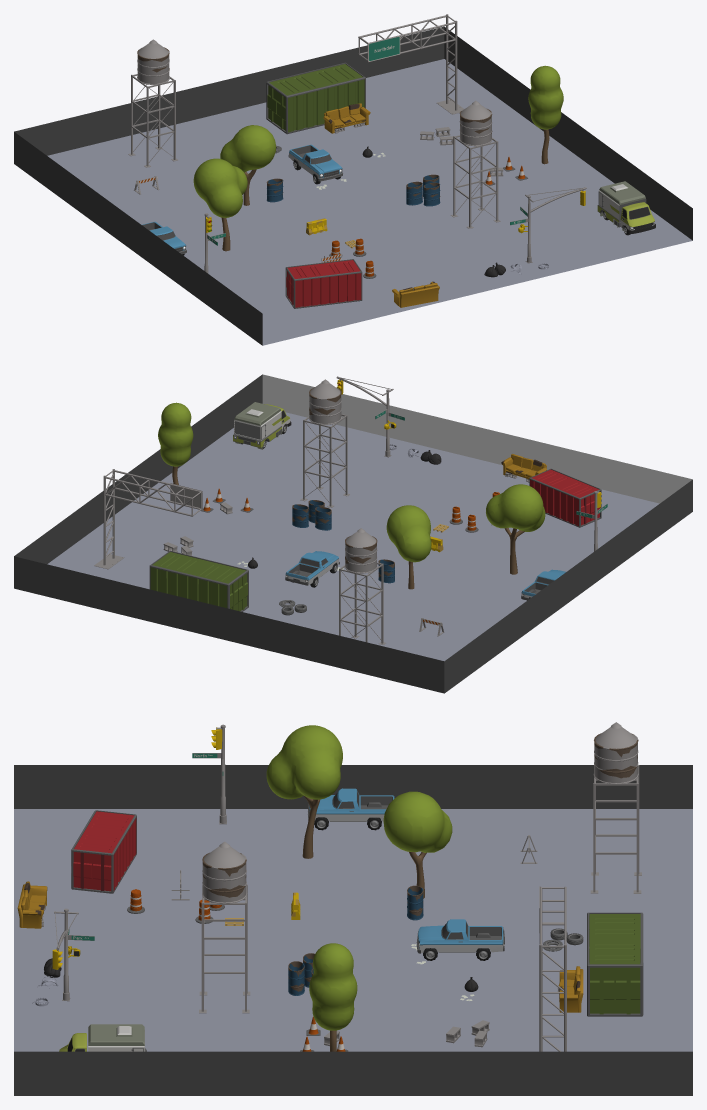
The model's file is tree2.glb.
The picture shows the model from 3 angles, top to bottom: view 1: azimuth 30°, elevation 25°; view 2: azimuth 150°, elevation 25°; view 3: azimuth 270°, elevation 25°; orthographic projection. The views are drawn at different scales.
Visible parts, largest first — view 1: Plane, Container_Green, Container_Red, WaterTower.001, WaterTower, Tree_1, TownSign, Truck, Tree_4, Tree_2, Pickup.001, Couch (+3 smaller); view 2: Plane, Container_Green, WaterTower.001, WaterTower, Container_Red, TownSign, Tree_1, Tree_4, Tree_2, Truck, Pickup.001, Couch.001 (+2 smaller); view 3: Plane, Container_Green, Tree_1, Container_Red, WaterTower, WaterTower.001, Tree_4, Tree_2, Pickup.001, Truck, Pickup, TownSign (+4 smaller).
Boxes of the visible parts, x1,y1,x2,y2 form: Plane: [14, 26, 692, 345]; Container_Green: [266, 62, 365, 134]; Container_Red: [285, 259, 362, 308]; WaterTower.001: [451, 100, 500, 228]; WaterTower: [128, 39, 178, 167]; Tree_1: [193, 158, 247, 251]; TownSign: [358, 14, 463, 114]; Truck: [597, 181, 655, 233]; Tree_4: [220, 125, 276, 205]; Tree_2: [528, 65, 563, 164]; Pickup.001: [288, 144, 342, 181]; Couch: [323, 103, 370, 133]; Plane: [14, 374, 692, 693]; Container_Green: [149, 550, 248, 611]; WaterTower.001: [300, 379, 349, 507]; WaterTower: [339, 528, 385, 644]; Container_Red: [529, 468, 601, 527]; TownSign: [94, 469, 202, 569]; Tree_1: [486, 484, 545, 574]; Tree_4: [386, 505, 431, 589]; Tree_2: [158, 402, 193, 484]; Truck: [233, 402, 291, 449]; Pickup.001: [285, 551, 339, 585]; Couch.001: [501, 454, 546, 482]; Plane: [14, 765, 692, 1095]; Container_Green: [587, 912, 643, 1016]; Tree_1: [266, 725, 342, 858]; Container_Red: [71, 810, 136, 893]; WaterTower: [590, 722, 641, 893]; WaterTower.001: [199, 841, 250, 1013]; Tree_4: [383, 791, 452, 898]; Tree_2: [309, 943, 357, 1051]; Pickup.001: [416, 919, 504, 953]; Truck: [59, 1024, 146, 1051]; Pickup: [308, 788, 394, 821]; TownSign: [539, 886, 566, 1051].
Bounding box in the file's own units: 39.88 × 10.48 × 39.88.
Materials: 30 (21 with a texture image).
